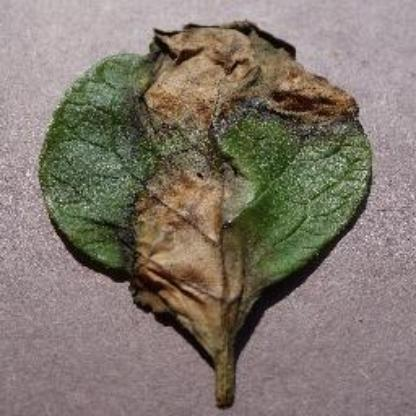Late-Blight: (40, 20, 376, 400)
